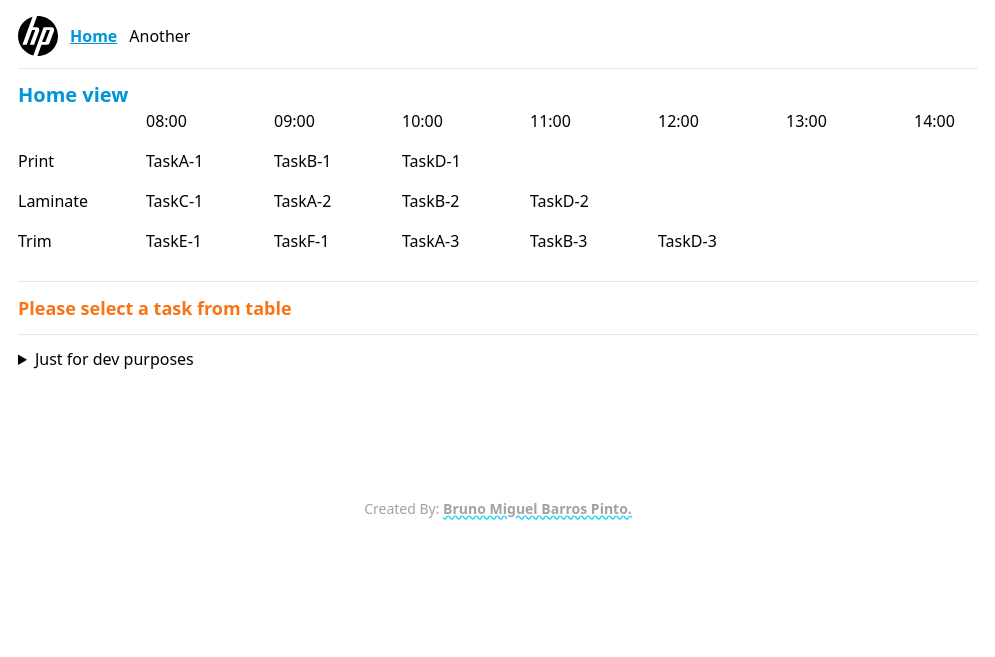
Test case: App › render with importing main.ts and see a job details
Expected: the text with id "home-view-title" reads "Home view", [18,81,128,108]
Expected: the element with class "jobs" is shown, [18,109,978,269]
Click the text "TaskA-1". click: [175, 161]
box: [146,150,203,172]
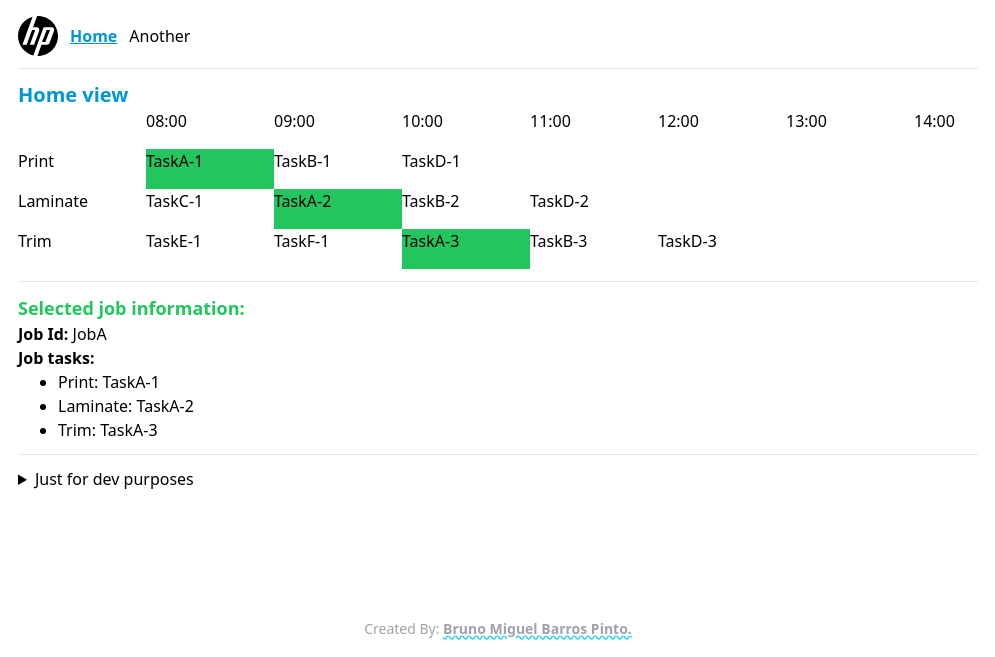
Expected: the text "Selected job information:" is shown, [18,296,245,320]
Expected: the text "Print: TaskA-1" is shown, [58,371,160,393]
Expected: the text "Laminate: TaskA-2" is shown, [58,395,194,417]
